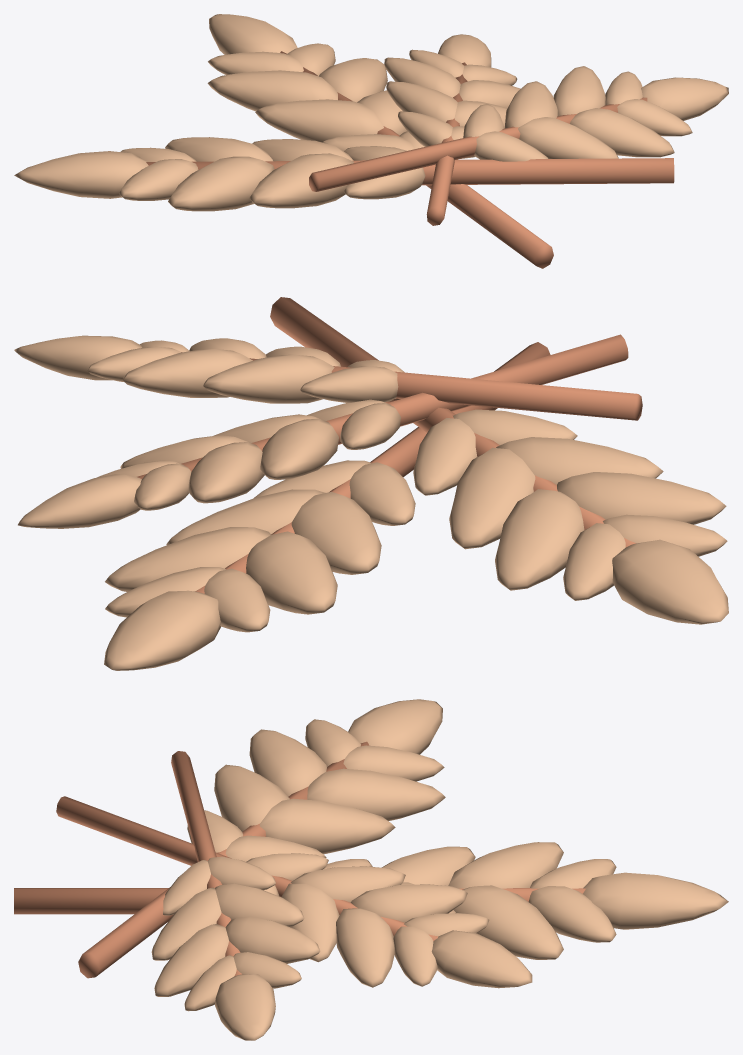
File: WheatHarvest.fbx
The picture shows the model from 3 angles, top to bottom: view 1: azimuth 30°, elevation 25°; view 2: azimuth 150°, elevation 25°; view 3: azimuth 270°, elevation 25°; orthographic projection. The views are drawn at different scales.
Visible parts, largest first — view 1: WheatHarvest; view 2: WheatHarvest; view 3: WheatHarvest.
Part boxes in pixels (x1,y1,x2,y2): WheatHarvest: (14,14,728,268); WheatHarvest: (14,297,728,670); WheatHarvest: (14,699,728,1040).
Bounding box in the file's own units: 67.72 × 9.14 × 61.36.
